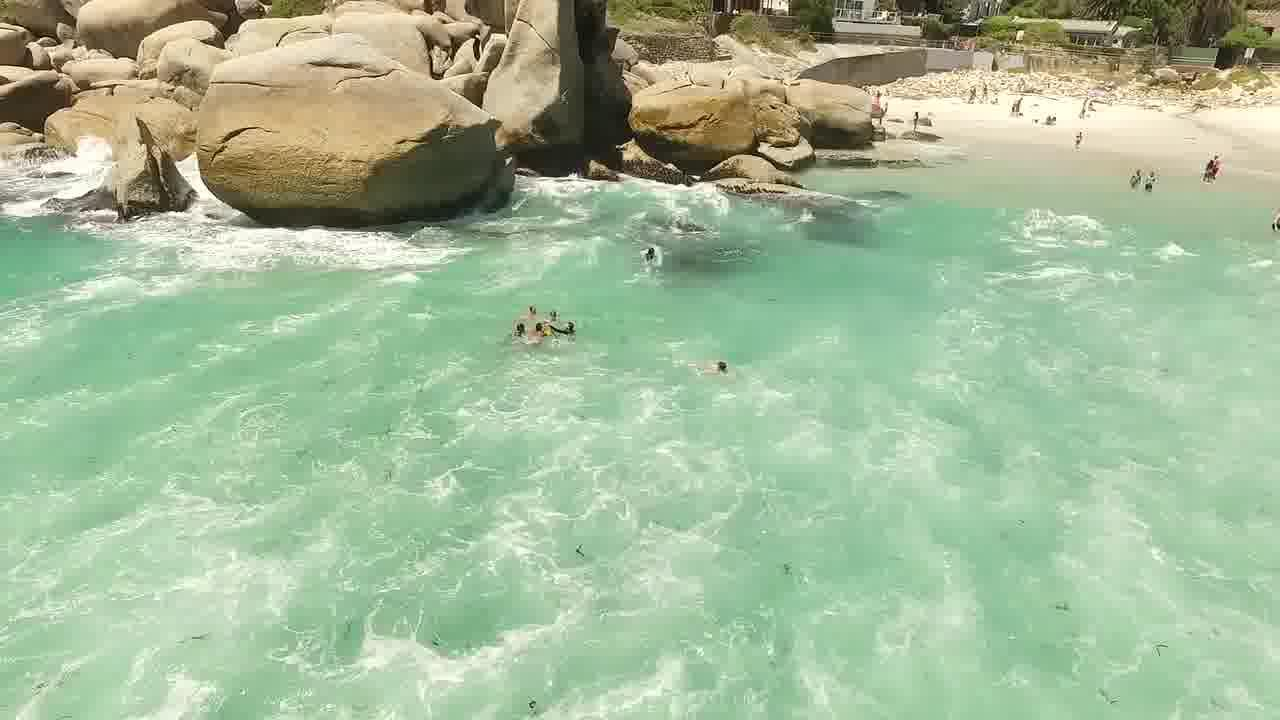swimmer: (507, 296, 583, 361), (702, 344, 753, 388), (1186, 156, 1236, 192), (632, 230, 665, 276), (1124, 161, 1172, 189), (1065, 120, 1083, 157)
